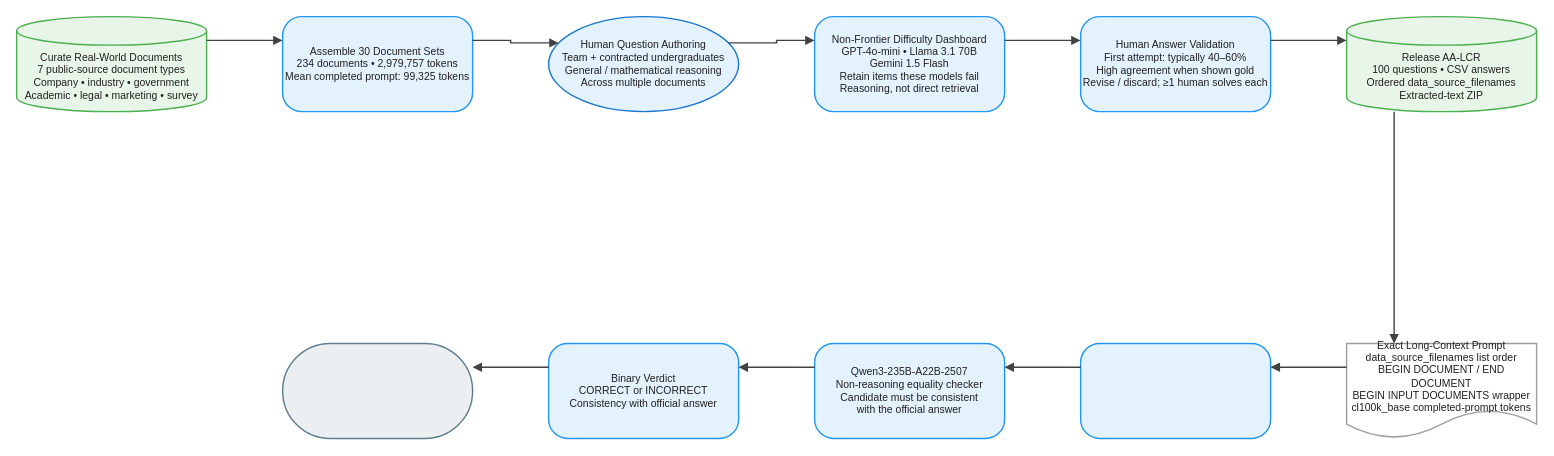
Some shapes in this 1554 by 456 pixel diagram are drawn without their labels. Each missing label, with the box of its shape:
AA-LCR Accuracy CORRECT verdicts / 100 Long-context multi-document performance: (281, 342, 473, 439)
Target Model Response Reason over the full document set Produce candidate answer: (1079, 342, 1271, 439)
